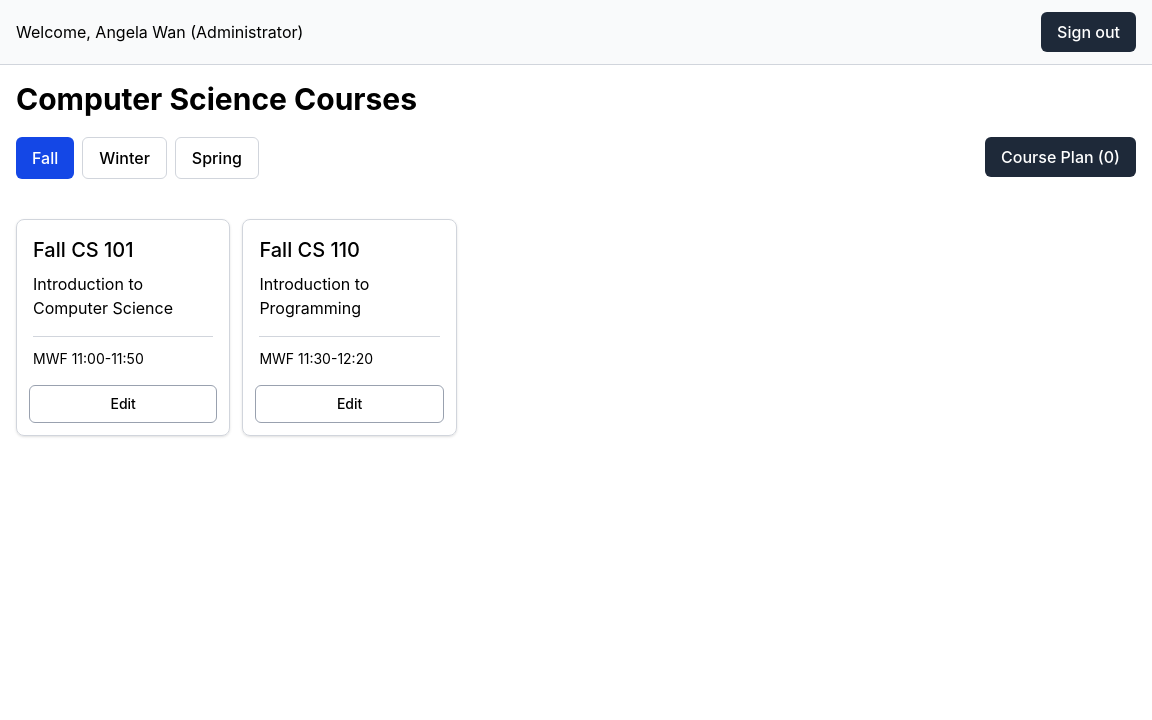
Test: course plan › explains how to add a course when the plan is empty
Expected: the heading "Computer Science Courses" is shown, [16, 81, 417, 117]
Click the button "Course Plan (0)".
click(1061, 157)  # box [985, 137, 1136, 177]
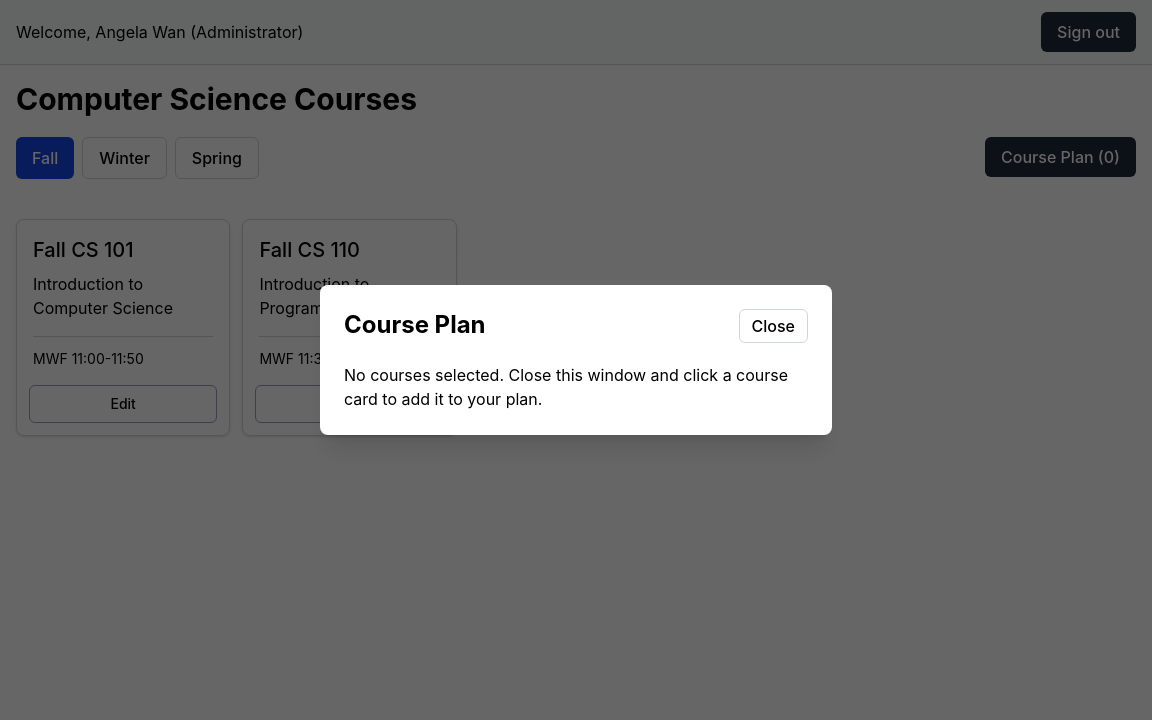
Now the dialog shows "No courses selected", box [344, 365, 788, 409]
